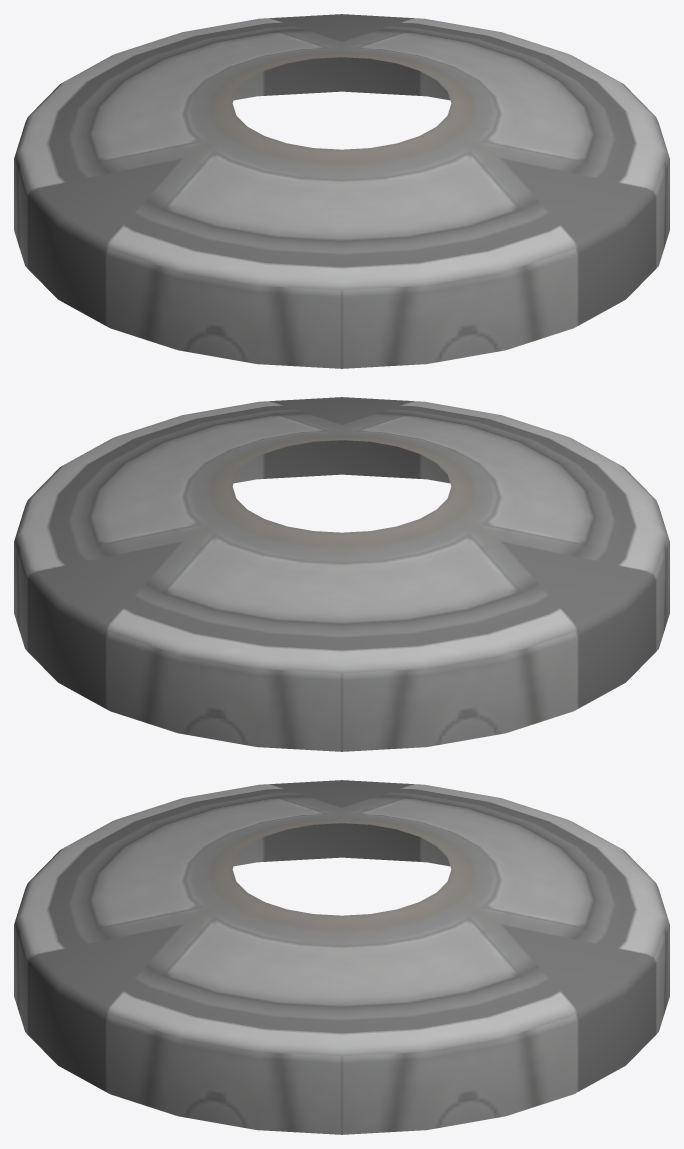
File: eridani_adapter_s1p5_s0_1.obj
3 renders of one model, top to bottom at view 1: azimuth 30°, elevation 25°; view 2: azimuth 150°, elevation 25°; view 3: azimuth 270°, elevation 25°, orthographic.
Visible parts, largest first — view 1: mesh1; view 2: mesh1; view 3: mesh1.
Part boxes in pixels (x1=…): mesh1: x1=14, y1=14, x2=669, y2=368; mesh1: x1=14, y1=397, x2=669, y2=751; mesh1: x1=14, y1=780, x2=669, y2=1134.
Bounding box in the file's own units: 1.88 × 0.4 × 1.88.
1 material, 1 textured.
